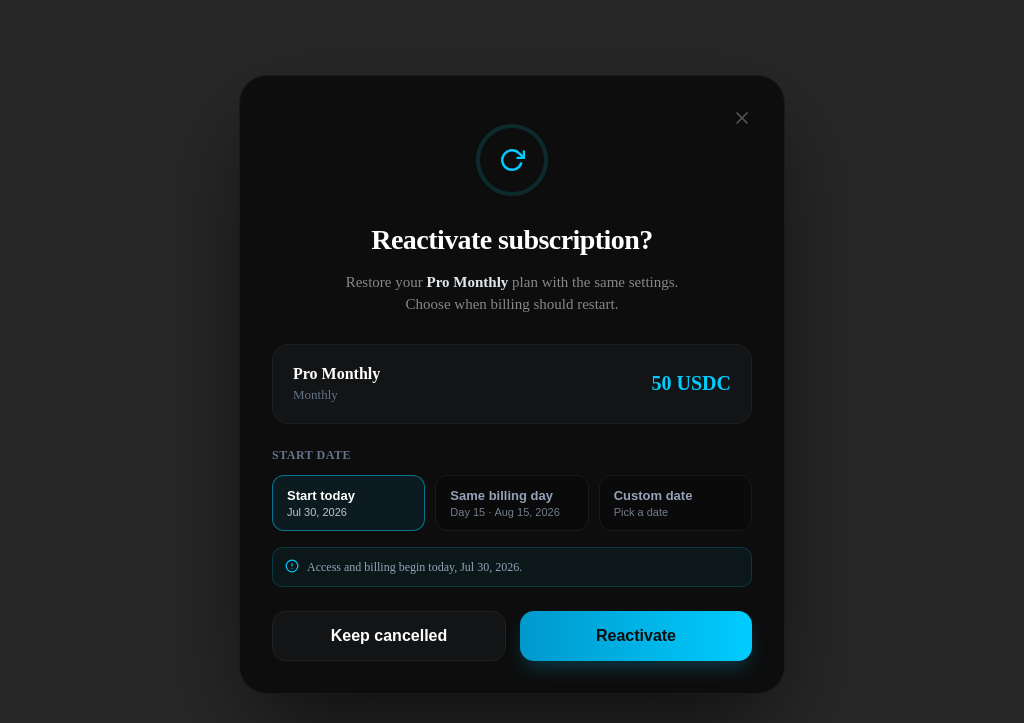
Test: ReactivationModal – start-date modes › selecting "Custom date" shows the calendar
Click the button "Custom date Pick a date" at (675, 502), box 599,474 -> 752,530
(page scrolled)
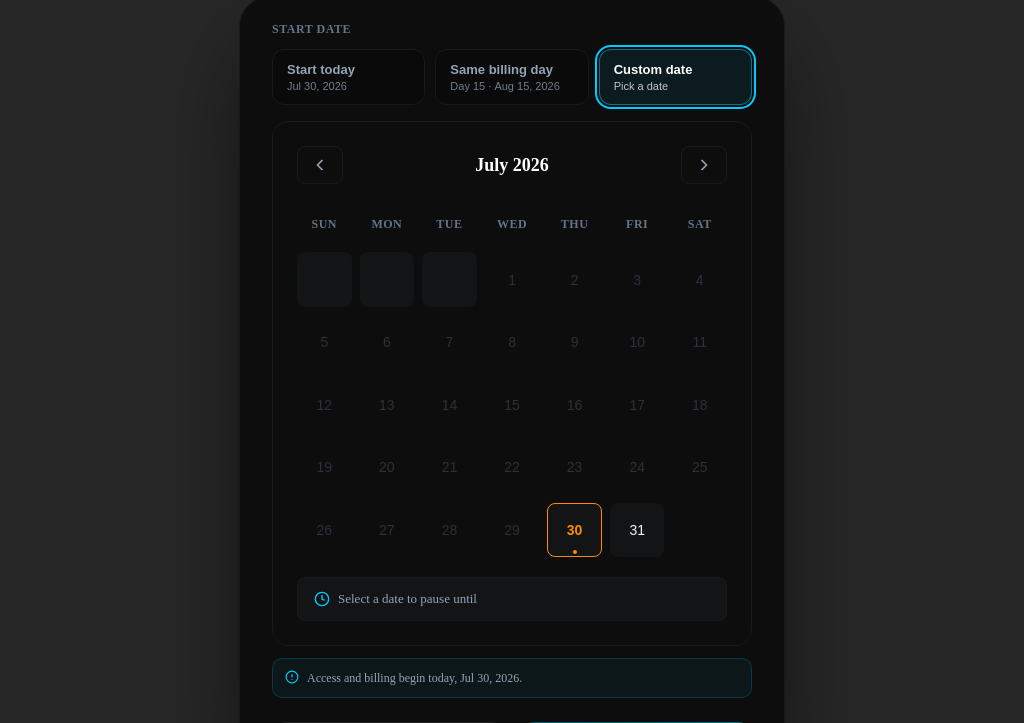
expect the element named "Date picker calendar" is shown: met, box 272,121 -> 752,646
